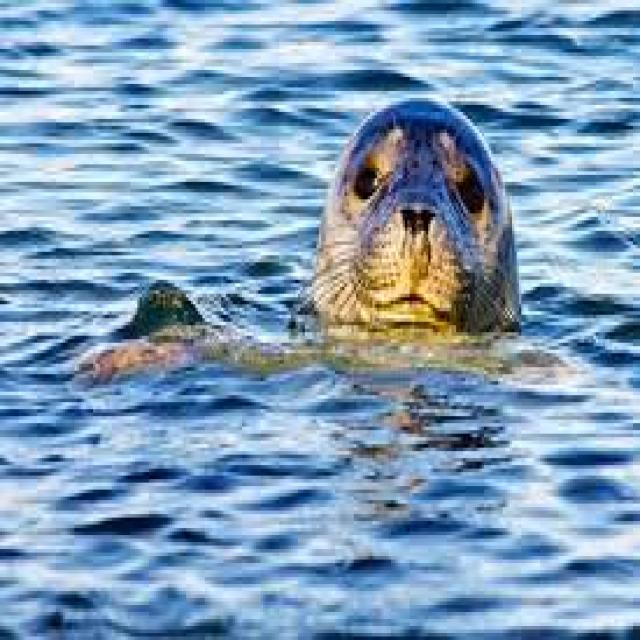seal: (310, 98, 519, 329)
